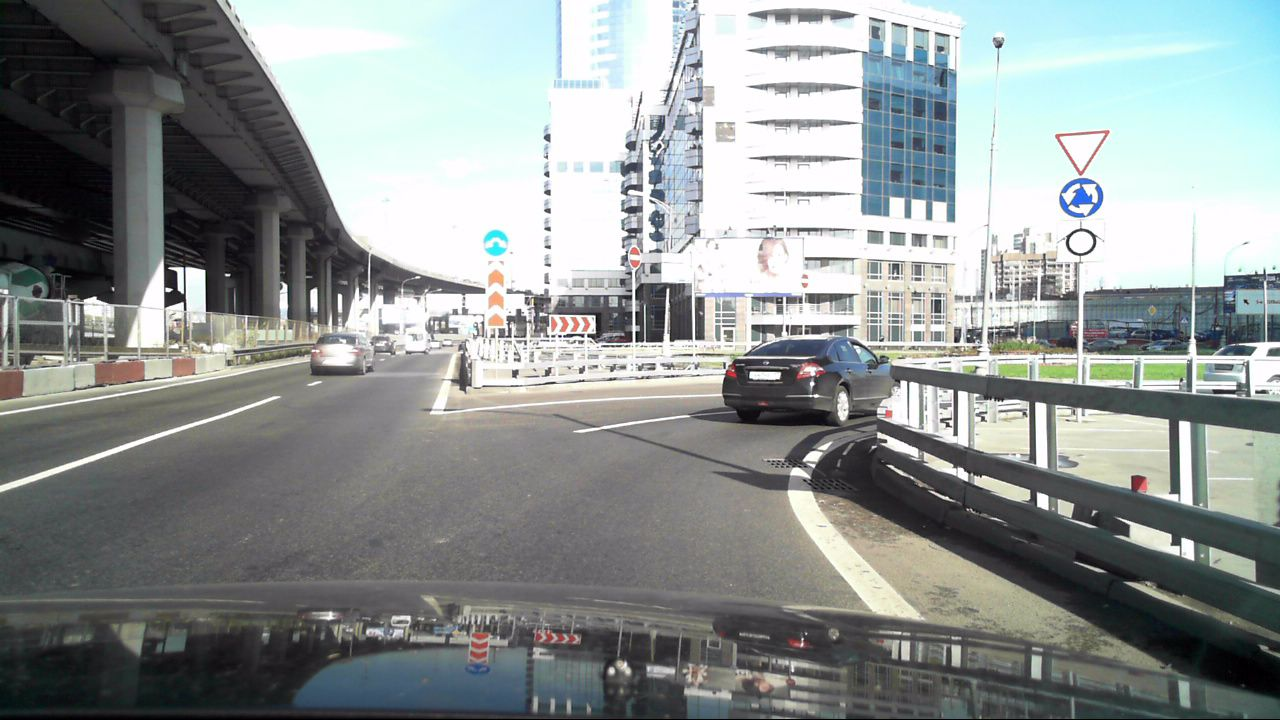Round-About: (1057, 175, 1105, 221)
